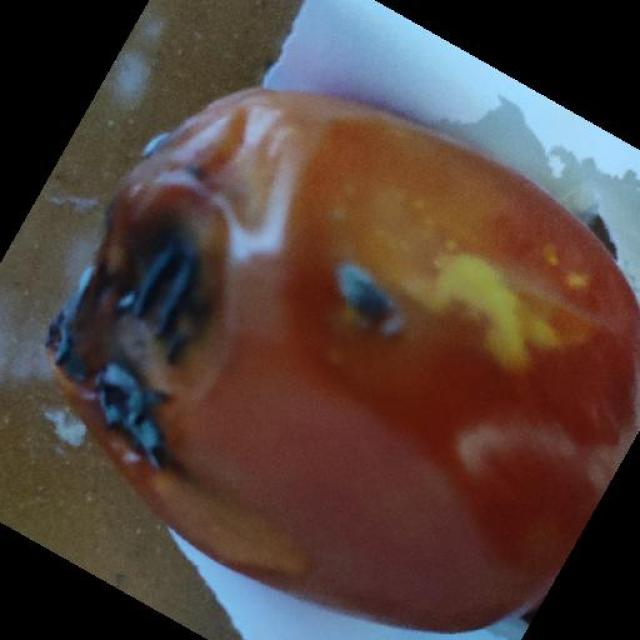Stale_tomato: (44, 95, 640, 590)
